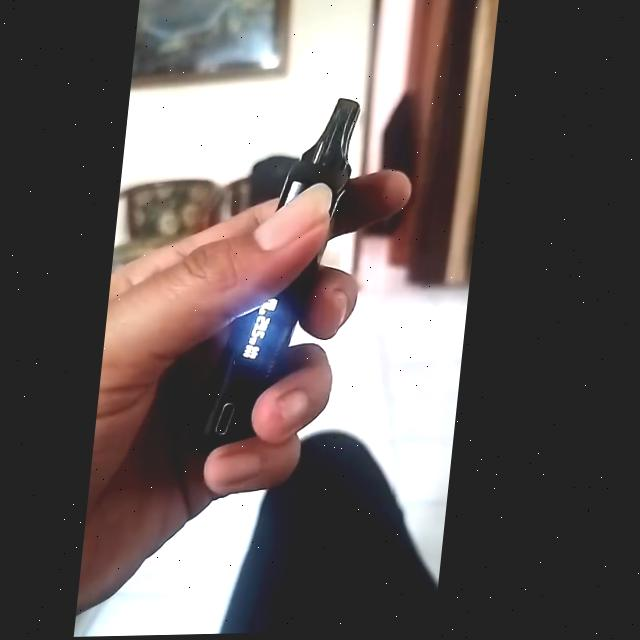vape: (193, 101, 364, 484)
